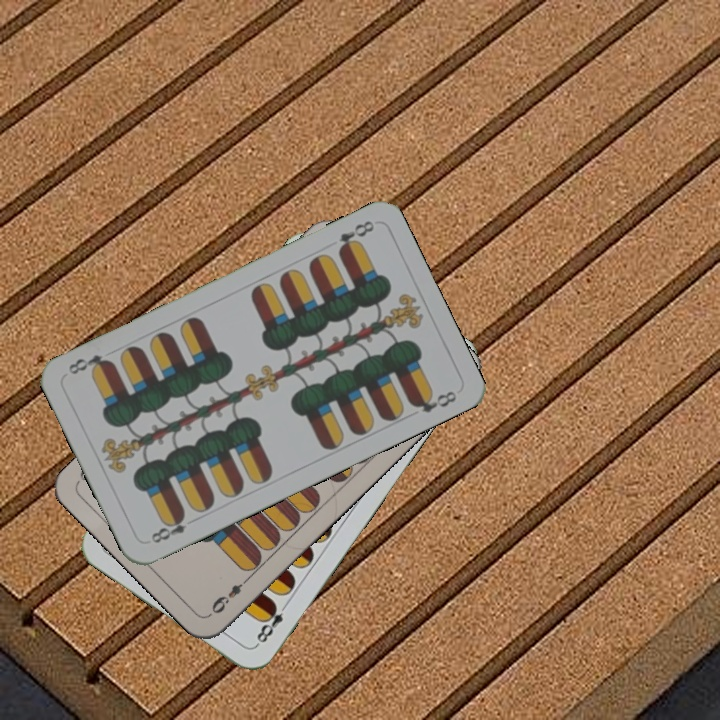E8: (251, 598, 292, 649), (147, 509, 200, 546), (334, 216, 377, 256)
E9: (205, 573, 253, 618)
